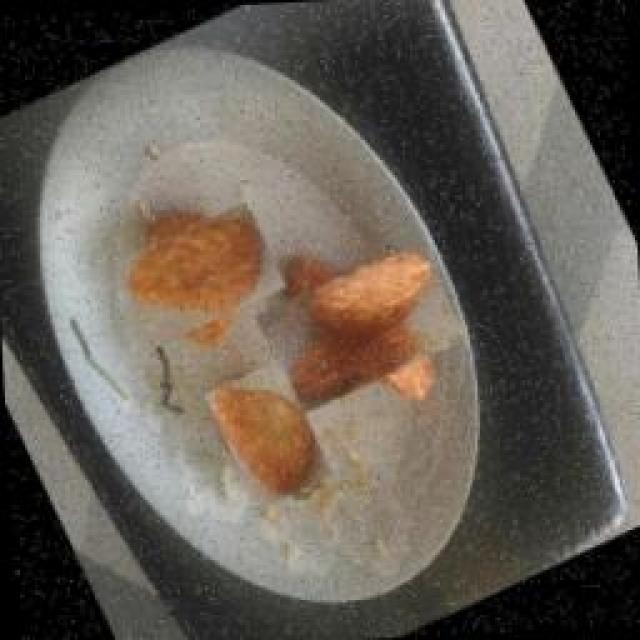triangle_hash_brown: (260, 225, 460, 425), (120, 190, 285, 355), (203, 355, 338, 513)
